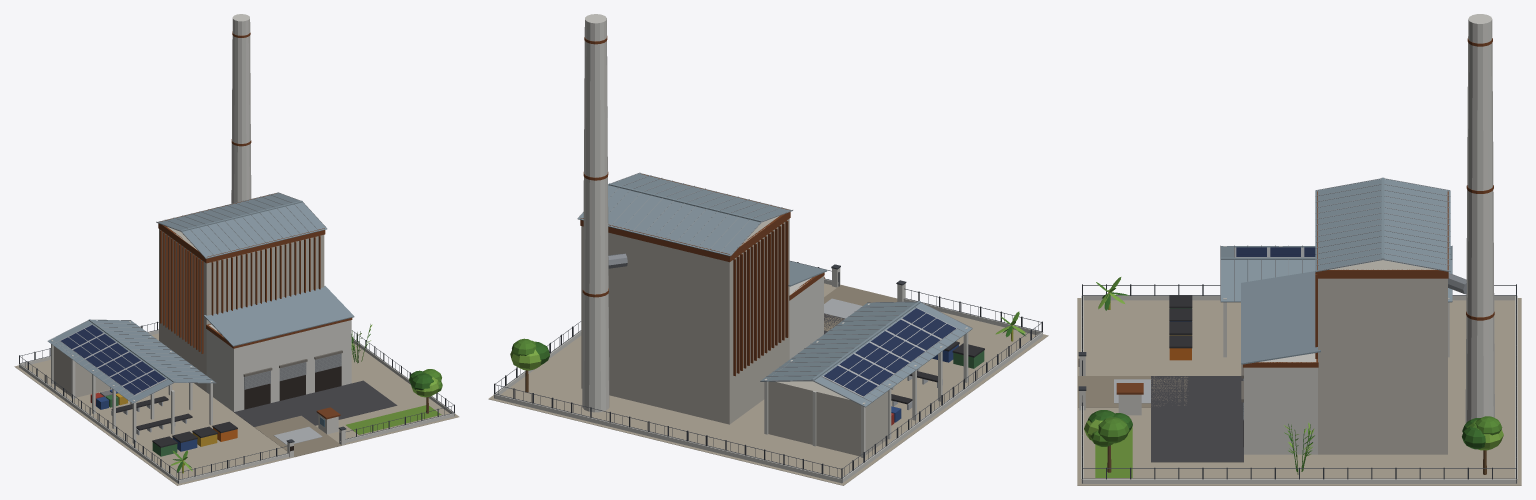
The model's file is waste.glb.
3 views of the same model, side by side, from view 1: azimuth 30°, elevation 25°; view 2: azimuth 150°, elevation 25°; view 3: azimuth 270°, elevation 25° (orthographic). The views are drawn at different scales.
Visible parts, largest first — view 1: body, windows; view 2: body; view 3: body.
Boxes of the visible parts, x1,y1,x2,y2 form: body: (14,14,459,485); windows: (244,366,341,409); body: (488,14,1048,485); body: (1077,14,1521,485).
Size of the model in its own units: 47.9 by 50.03 by 47.9.
